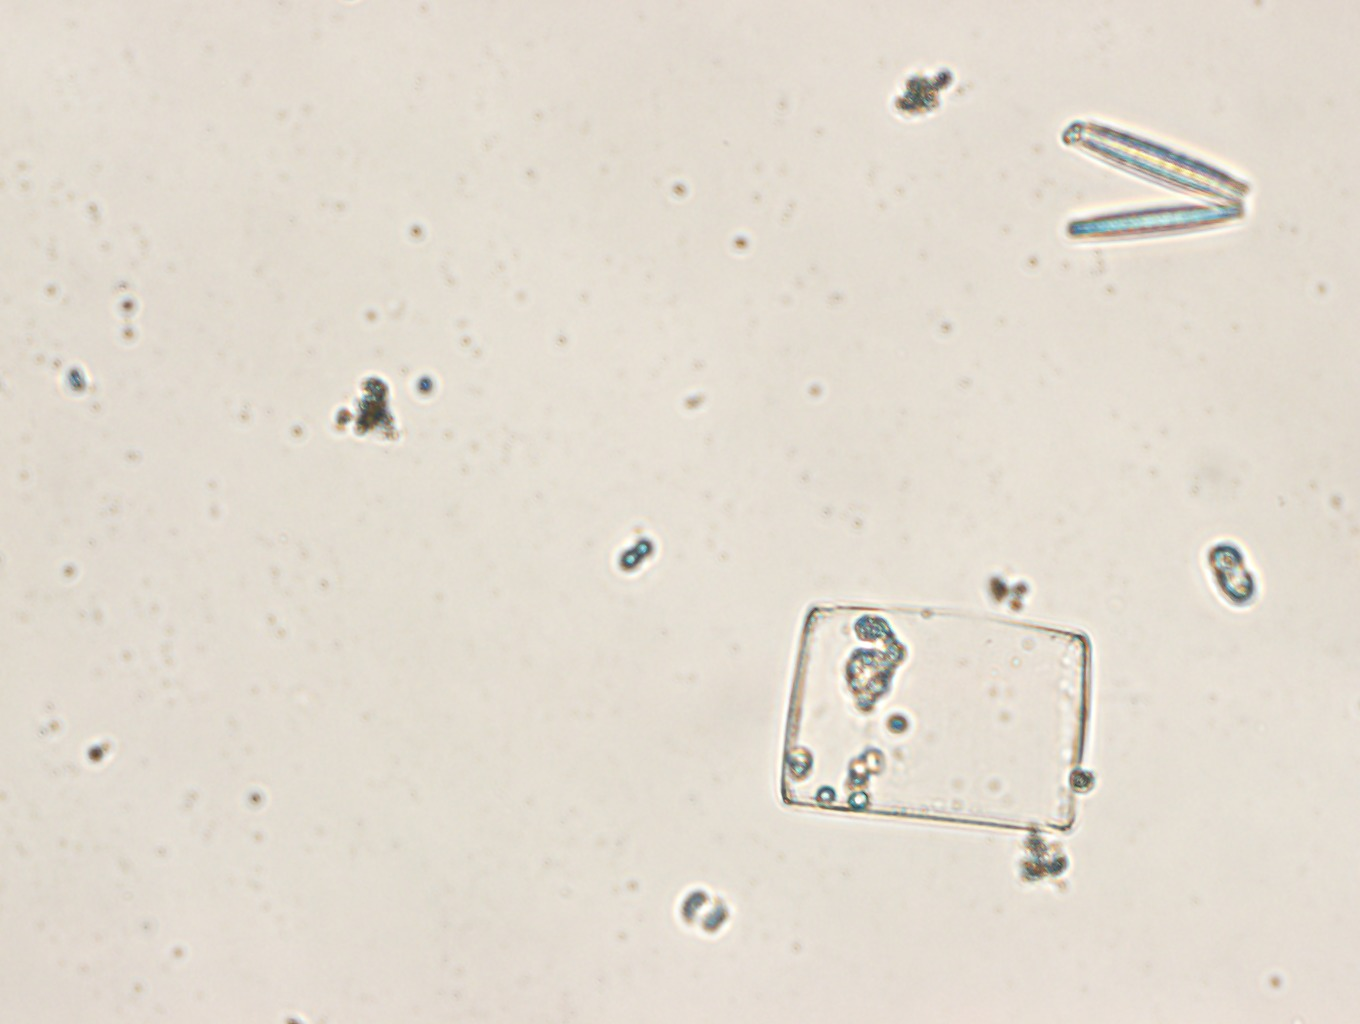guinardia flaccida: (779, 602, 1089, 833)
thalassionema nitzschioides: (1065, 123, 1249, 242)
